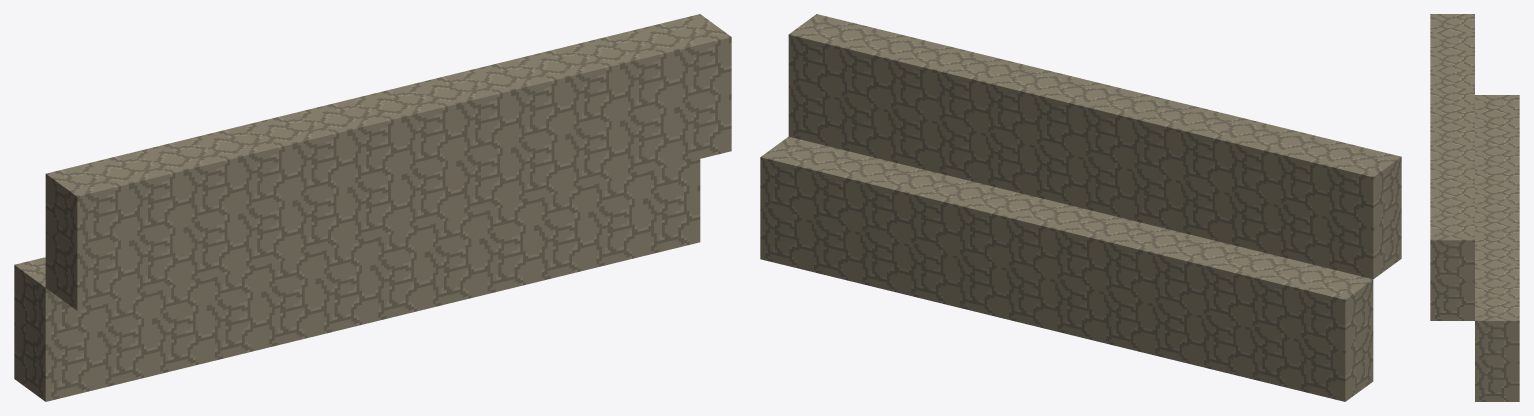
The model's file is map1.55.vox.obj.
3 views of the same model, side by side, from view 1: azimuth 30°, elevation 25°; view 2: azimuth 150°, elevation 25°; view 3: azimuth 270°, elevation 25° (orthographic). The views are drawn at different scales.
Bounding box in the file's own units: 24 × 8 × 4.
1 material, 1 textured.
